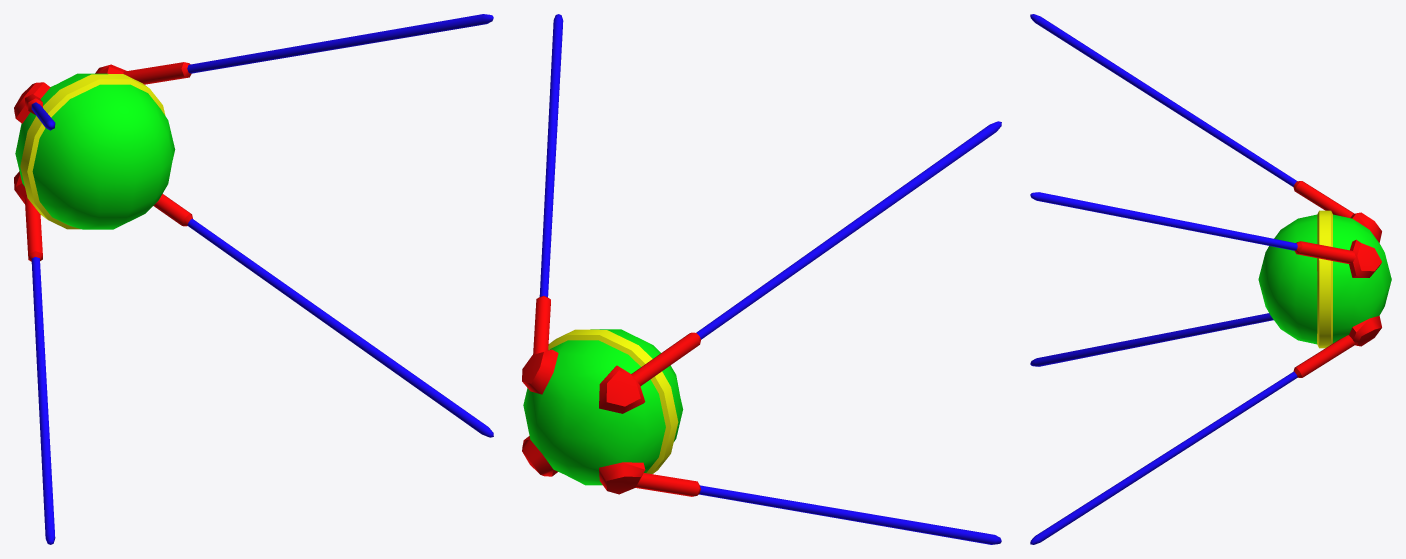
File: Emitter.FBX
The picture shows the model from 3 angles, left to right: view 1: azimuth 30°, elevation 25°; view 2: azimuth 150°, elevation 25°; view 3: azimuth 270°, elevation 25°; orthographic projection. The views are drawn at different scales.
Visible parts, largest first — view 1: Box001; view 2: Box001; view 3: Box001.
Boxes of the visible parts, left/top/right/bottom form: Box001: left=14, top=14, right=493, bottom=544; Box001: left=522, top=14, right=1001, bottom=544; Box001: left=1030, top=14, right=1391, bottom=544.
Size of the model in its own units: 127 by 115 by 107.
